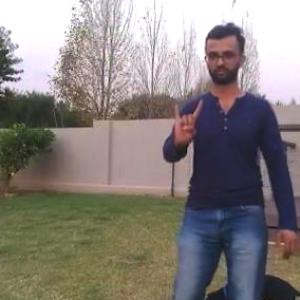takeoff-hand: (167, 94, 208, 154)
